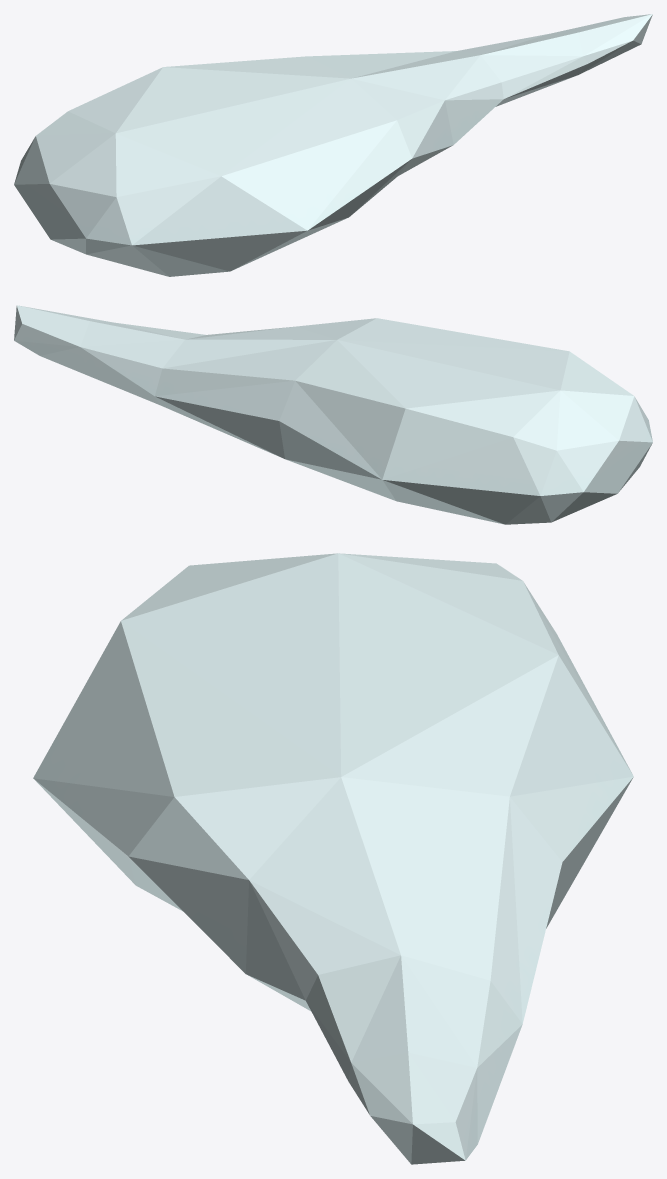
Rendered from Jungle_Clouds_Sml_A.fbx.
3 renders of one model, top to bottom at view 1: azimuth 30°, elevation 25°; view 2: azimuth 150°, elevation 25°; view 3: azimuth 270°, elevation 25°, orthographic. The views are drawn at different scales.
Visible parts, largest first — view 1: Jungle_Clouds_Sml_A; view 2: Jungle_Clouds_Sml_A; view 3: Jungle_Clouds_Sml_A.
Part boxes in pixels (left/top/right/bottom): Jungle_Clouds_Sml_A: left=14, top=14, right=652, bottom=276; Jungle_Clouds_Sml_A: left=14, top=305, right=652, bottom=524; Jungle_Clouds_Sml_A: left=33, top=553, right=633, bottom=1164.
Size of the model in its own units: 443 by 82.11 by 197.
